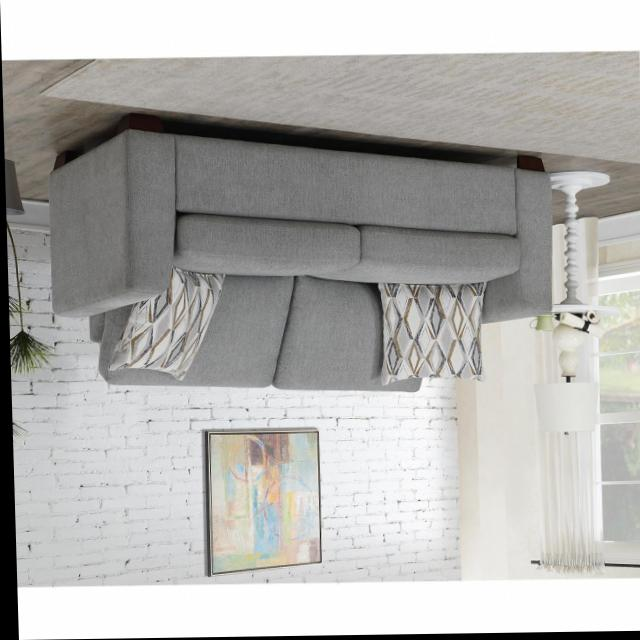Sofa: (43, 107, 553, 399)
